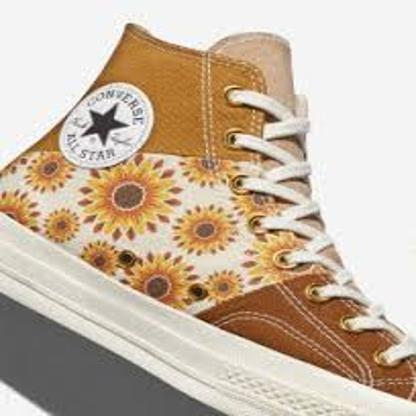not trash: (3, 19, 416, 416)
